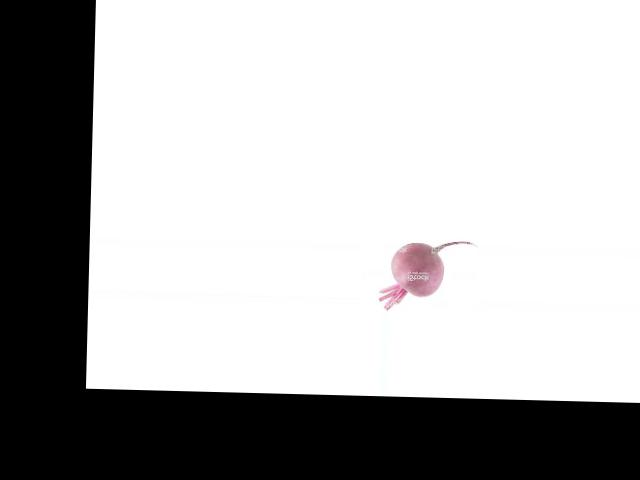beet: (378, 239, 478, 312)
